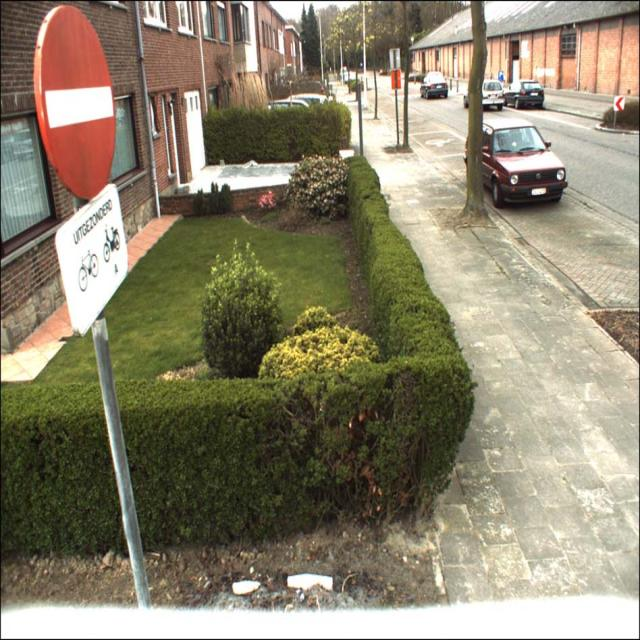girisyok: (38, 4, 116, 200)
